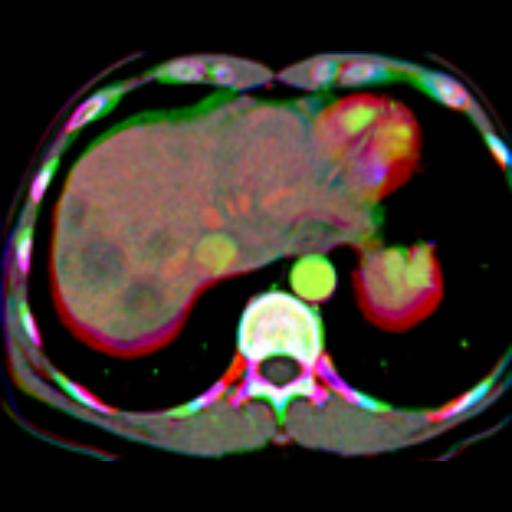Tumor: (54, 194, 187, 337)
